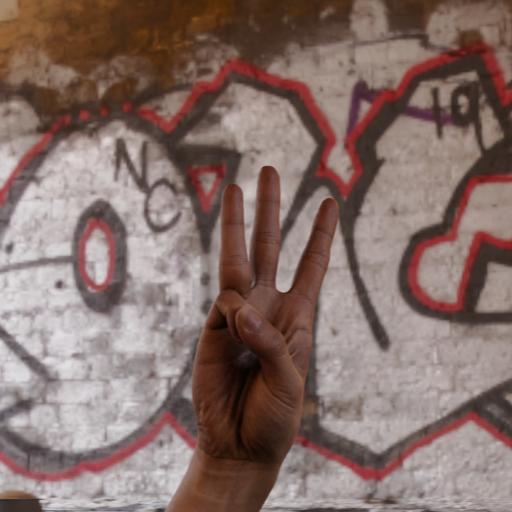W: (187, 160, 343, 487)
